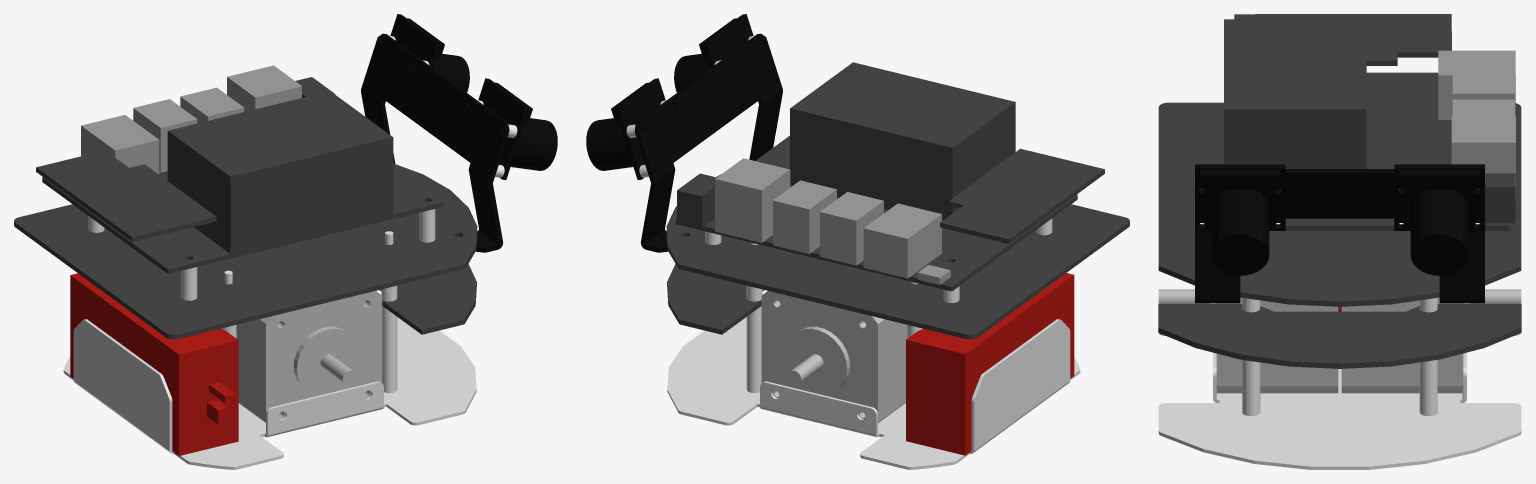
Rendered from jetsonmouse_body.dae.
The picture shows the model from 3 angles, left to right: view 1: azimuth 30°, elevation 25°; view 2: azimuth 150°, elevation 25°; view 3: azimuth 270°, elevation 25°; orthographic projection. The views are drawn at different scales.
Parts seen in each view (by area): view 1: node30, node0, node19, node17, node28, node5, node16, node29, node14, node35, node32, node15 (+3 smaller); view 2: node30, node0, node19, node18, node5, node28, node16, node32, node35, node29, node15, node33 (+4 smaller); view 3: node30, node0, node19, node29, node5, node14, node15, node16, node17, node18, node32, node35 (+5 smaller).
Part boxes in pixels (left/top/right/bottom): node30: left=42, top=91, right=443, bottom=273; node0: left=14, top=163, right=477, bottom=339; node19: left=63, top=317, right=476, bottom=469; node17: left=236, top=291, right=382, bottom=422; node28: left=70, top=273, right=238, bottom=455; node5: left=361, top=33, right=509, bottom=252; node16: left=36, top=150, right=216, bottom=241; node29: left=379, top=264, right=476, bottom=334; node14: left=478, top=78, right=557, bottom=179; node35: left=81, top=115, right=159, bottom=174; node32: left=227, top=65, right=301, bottom=111; node15: left=390, top=14, right=469, bottom=92; node30: left=676, top=62, right=1077, bottom=291; node0: left=666, top=174, right=1129, bottom=339; node19: left=667, top=317, right=1080, bottom=469; node18: left=761, top=291, right=907, bottom=422; node5: left=634, top=33, right=782, bottom=252; node28: left=906, top=273, right=1074, bottom=455; node16: left=940, top=148, right=1104, bottom=243; node32: left=715, top=158, right=790, bottom=242; node35: left=863, top=203, right=941, bottom=278; node29: left=667, top=264, right=764, bottom=334; node15: left=586, top=78, right=665, bottom=179; node33: left=773, top=180, right=836, bottom=253; node30: left=1224, top=19, right=1510, bottom=230; node0: left=1158, top=102, right=1521, bottom=306; node19: left=1158, top=333, right=1521, bottom=469; node29: left=1158, top=304, right=1521, bottom=368; node5: left=1195, top=169, right=1484, bottom=303; node14: left=1195, top=164, right=1285, bottom=275; node15: left=1394, top=164, right=1484, bottom=275; node16: left=1234, top=14, right=1451, bottom=65; node17: left=1158, top=289, right=1338, bottom=393; node18: left=1341, top=289, right=1521, bottom=393; node32: left=1451, top=116, right=1515, bottom=201; node35: left=1438, top=50, right=1515, bottom=119.
Bounding box in the file's own units: 0.1521 × 0.1002 × 0.0953.
